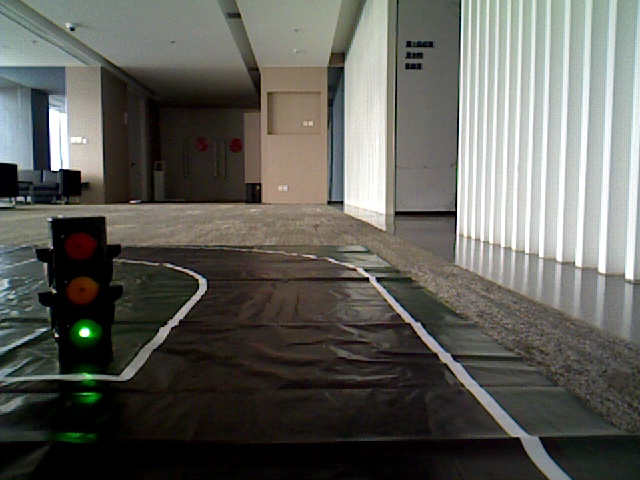green: (52, 224, 110, 352)
